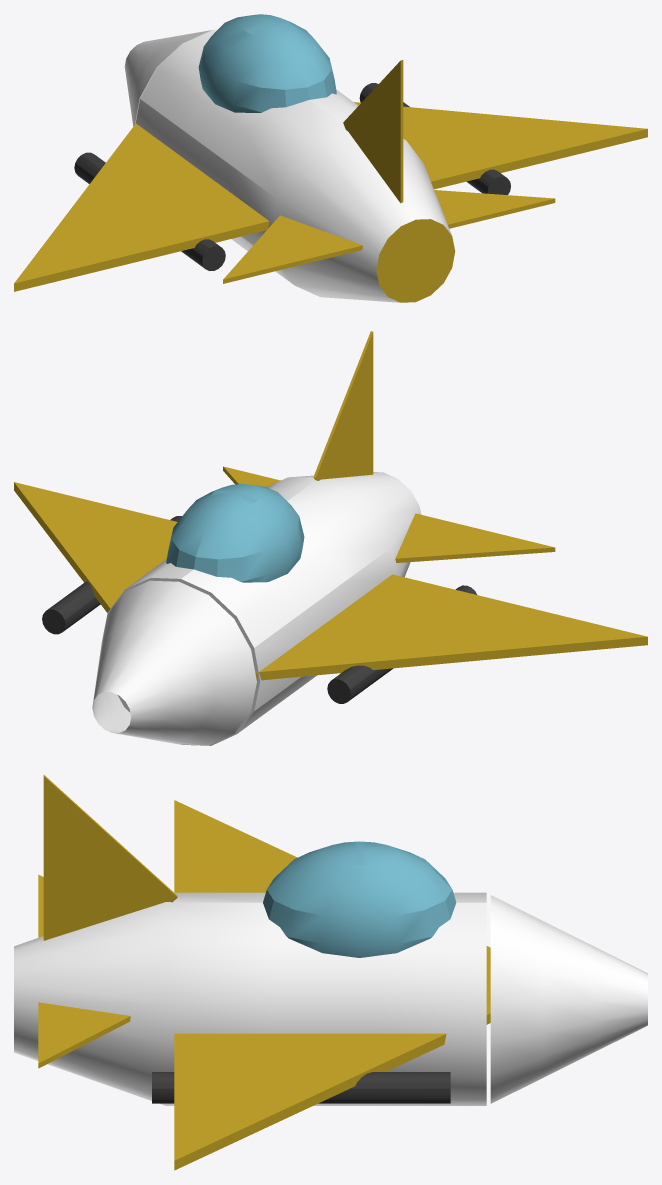
3 views of the same model, one above another, from view 1: azimuth 30°, elevation 25°; view 2: azimuth 150°, elevation 25°; view 3: azimuth 270°, elevation 25° (orthographic). The views are drawn at different scales.
Parts seen in each view (by area): view 1: Cylinder, Polygon, Sphere, Polygon_1, Polygon_2, Cone, Cylinder_1, Cylinder_2; view 2: Polygon, Cylinder, Cone, Sphere, Polygon_1, Polygon_2, Cylinder_2, Cylinder_1; view 3: Cylinder, Polygon, Cone, Sphere, Polygon_2, Cylinder_2, Polygon_1.
Part boxes in pixels (left/top/right/bottom): Cylinder: left=135, top=29, right=455, bottom=302; Polygon: left=14, top=102, right=647, bottom=291; Sphere: left=198, top=14, right=336, bottom=112; Polygon_1: left=223, top=190, right=555, bottom=283; Polygon_2: left=343, top=60, right=403, bottom=203; Cone: left=124, top=30, right=211, bottom=126; Cylinder_1: left=74, top=152, right=225, bottom=270; Cylinder_2: left=359, top=83, right=510, bottom=194; Polygon: left=14, top=482, right=647, bottom=680; Cylinder: left=101, top=472, right=421, bottom=745; Cone: left=92, top=580, right=256, bottom=745; Sphere: left=166, top=483, right=304, bottom=582; Polygon_1: left=223, top=466, right=555, bottom=562; Polygon_2: left=313, top=331, right=373, bottom=480; Cylinder_2: left=42, top=516, right=181, bottom=634; Cylinder_1: left=327, top=585, right=477, bottom=703; Cylinder: left=14, top=892, right=486, bottom=1105; Polygon: left=174, top=800, right=490, bottom=1170; Cone: left=490, top=895, right=647, bottom=1103; Sphere: left=263, top=841, right=456, bottom=957; Polygon_2: left=43, top=775, right=177, bottom=940; Cylinder_2: left=152, top=1072, right=450, bottom=1103; Polygon_1: left=38, top=874, right=130, bottom=1068.
Bounding box in the file's own units: 400 × 166 × 297.
